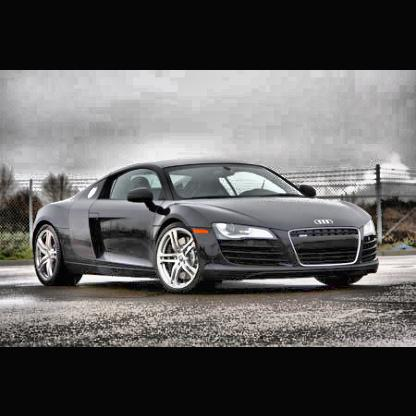Audi R8 Coupe 2012: (32, 160, 383, 296)
